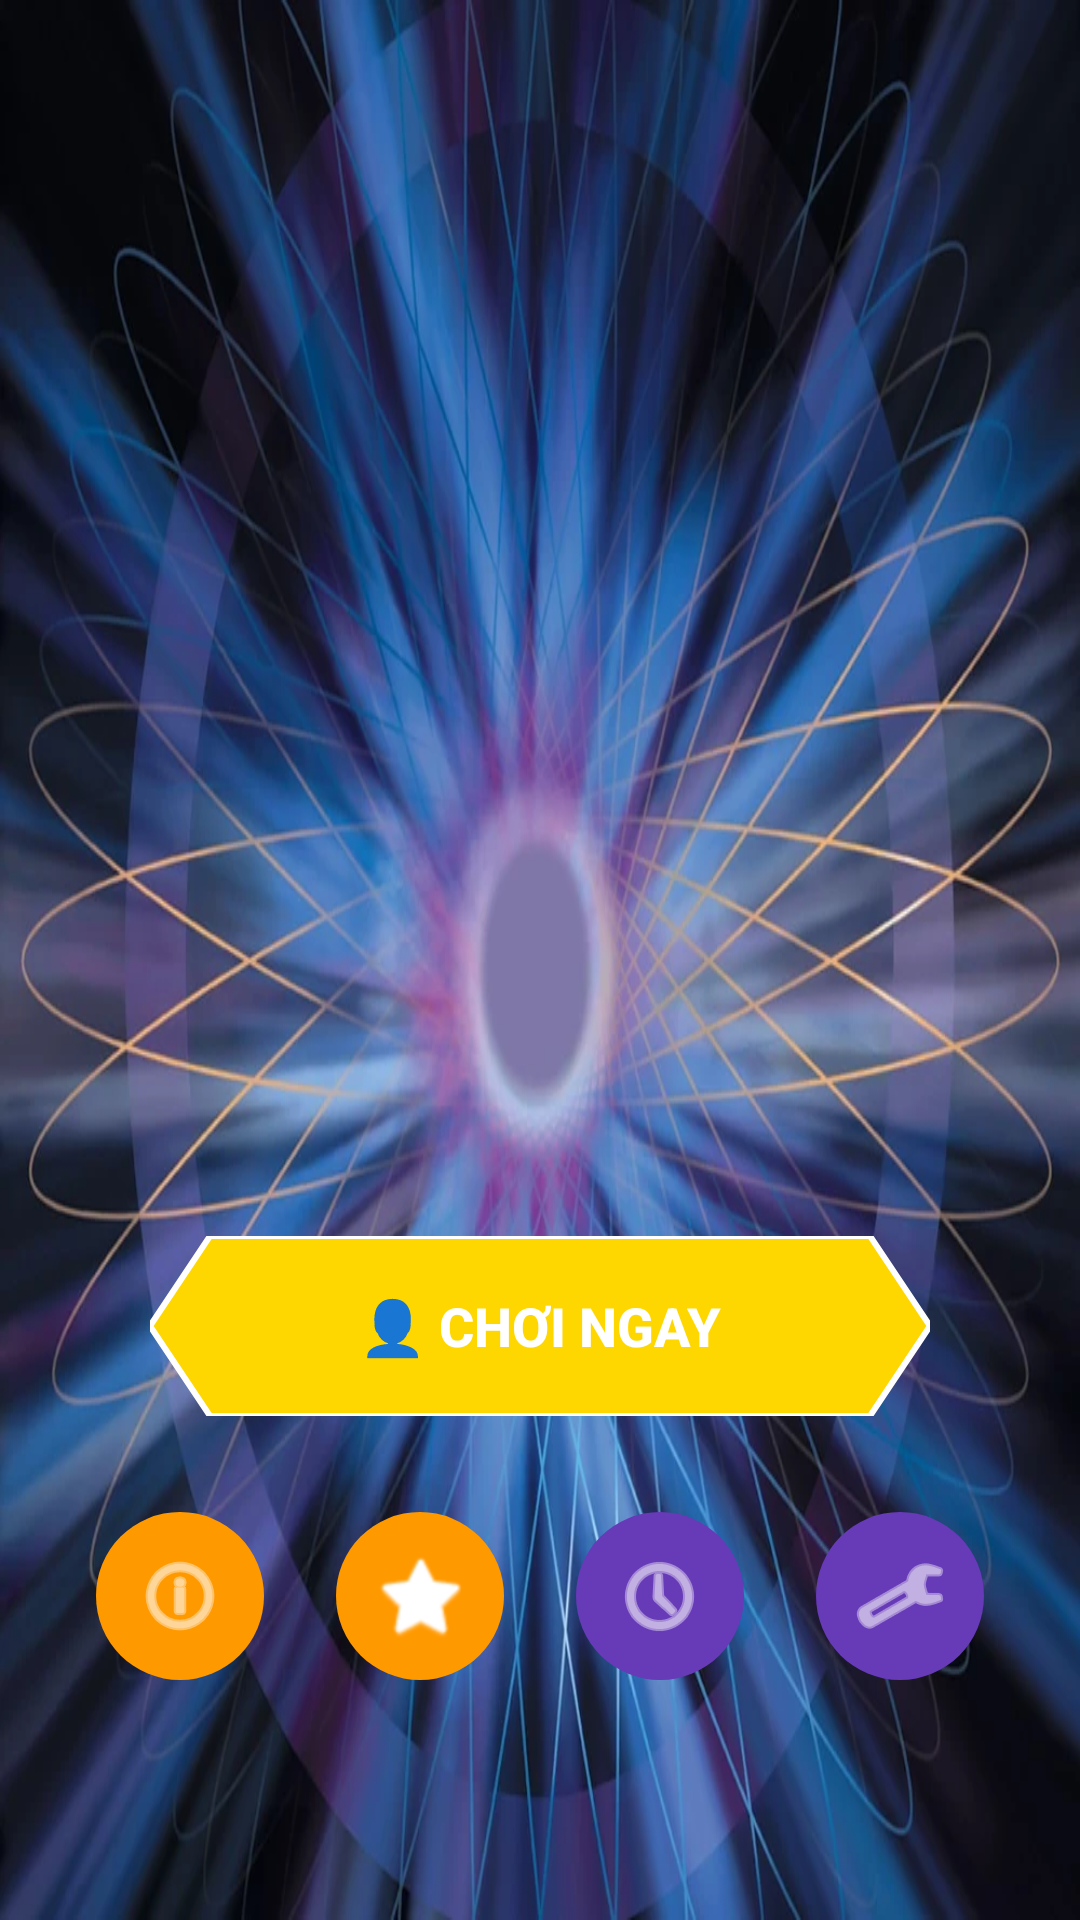

Named icons in this screenshot (1080w x 1920h) and their centers, [x,y]:
Cài đặt: [900,1596]
Lịch sử chơi: [660,1596]
Thông tin: [180,1596]
Xếp hạng: [420,1596]
